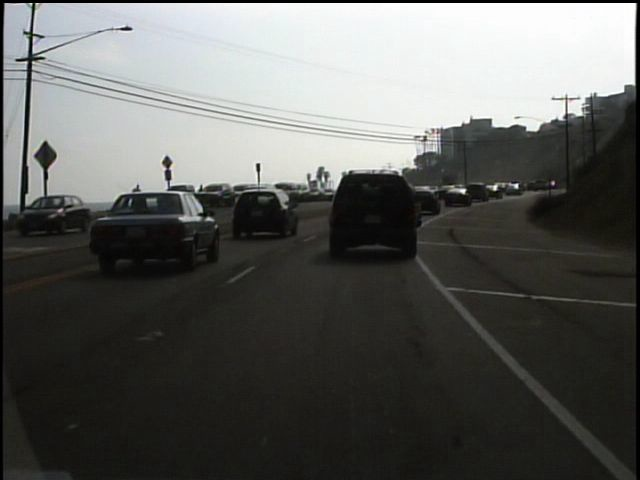person: (131, 180, 147, 213), (195, 182, 208, 210)
